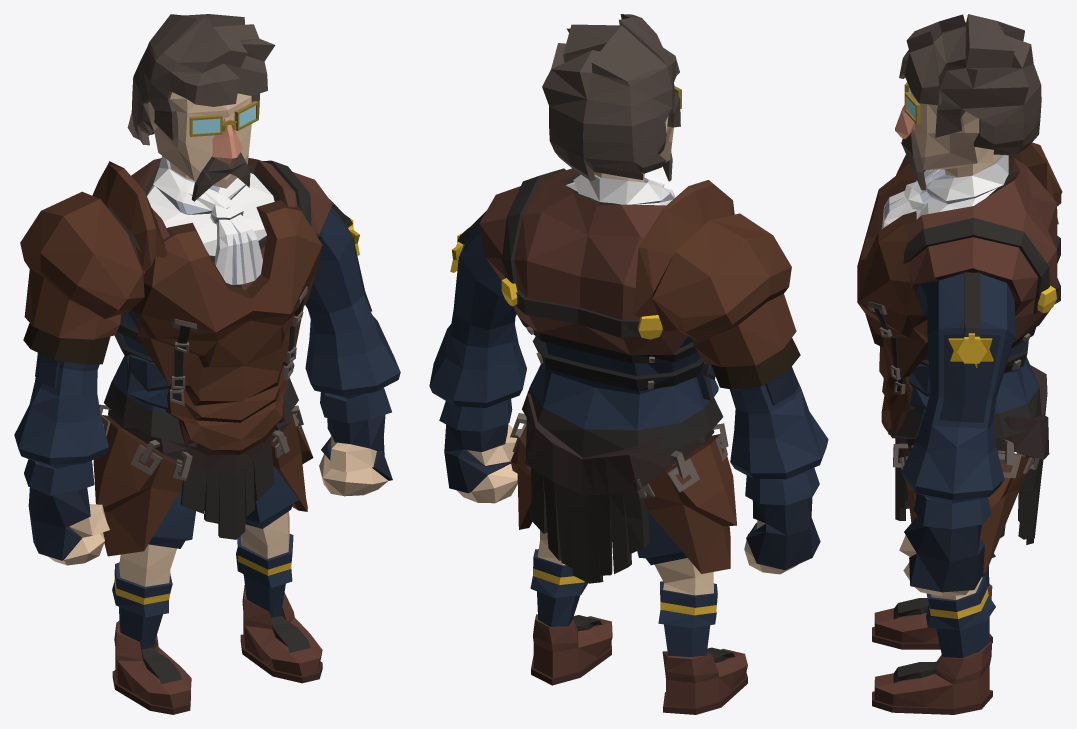
Rendered from 03_npc_niel.fbx.
The picture shows the model from 3 angles, left to right: view 1: azimuth 30°, elevation 25°; view 2: azimuth 150°, elevation 25°; view 3: azimuth 270°, elevation 25°; orthographic projection. The views are drawn at different scales.
Parts seen in each view (by area): view 1: B1_NPC_Niel_01tri; view 2: B1_NPC_Niel_01tri; view 3: B1_NPC_Niel_01tri.
Part boxes in pixels (x1,y1,x2,y2): B1_NPC_Niel_01tri: (14,14,400,714); B1_NPC_Niel_01tri: (429,14,828,714); B1_NPC_Niel_01tri: (857,14,1062,714).
Bounding box in the file's own units: 556 × 912 × 258.
